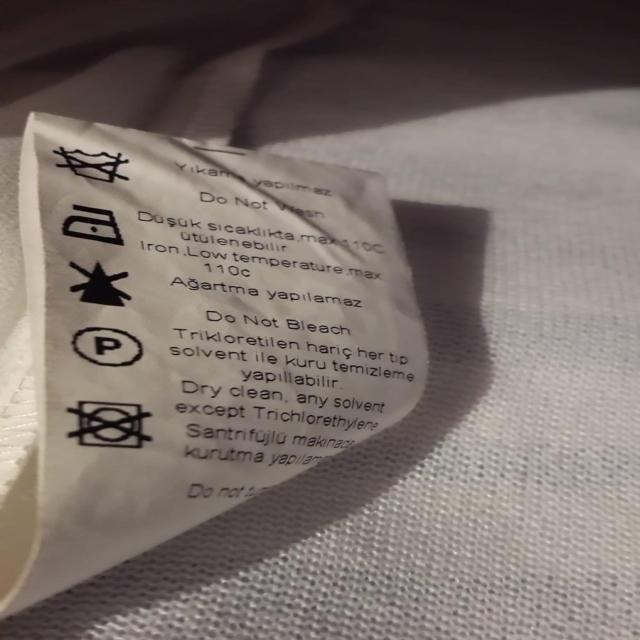DN_bleach: (64, 258, 134, 308)
DN_tumble_dry: (65, 398, 154, 449)
DN_wash: (56, 136, 129, 186)
dry_clean_any_solvent_except_trichloroethylene: (67, 322, 146, 369)
iron_low: (60, 202, 124, 245)
